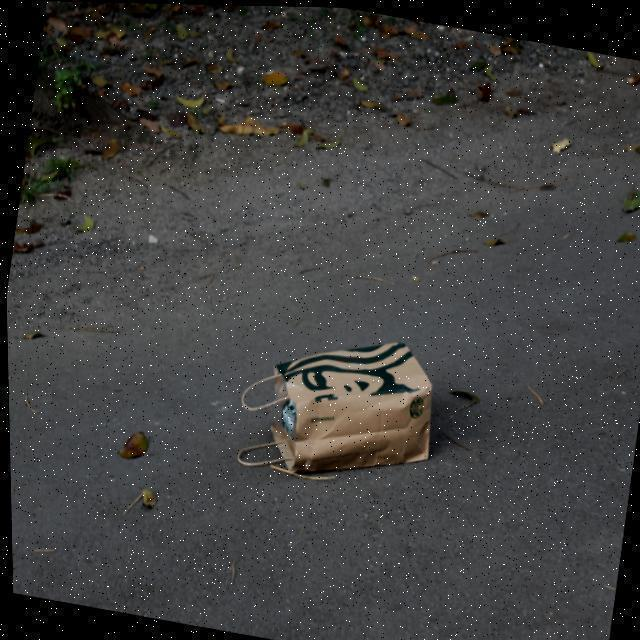Paper_Bag: (230, 311, 444, 498)
